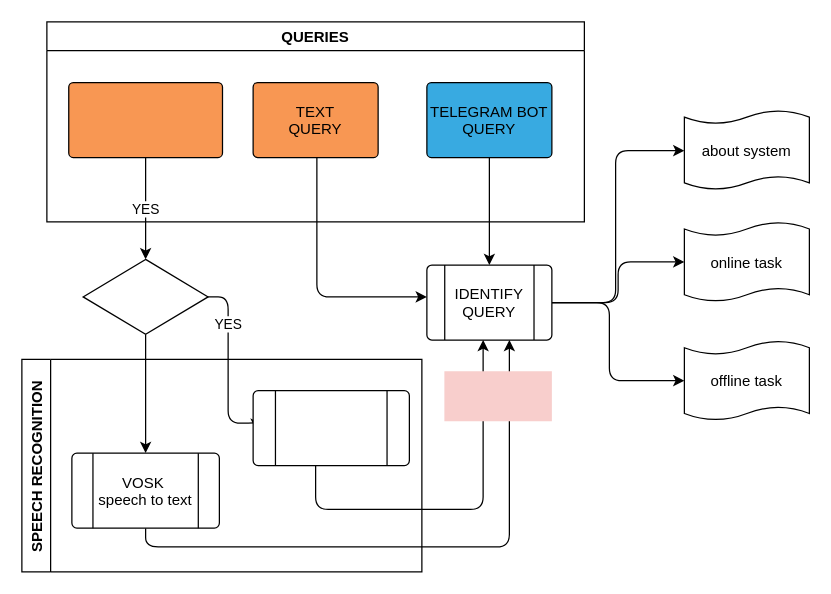
This 831x594 diagram has some shape labels left out. The shapes that lost their labels are listed below. From the top down, each one's centre as x and y in pixels, then its label:
At point 145,119: "SPEECH QUERY / VOICE COMMAND".
At point 145,296: "is Online".
At point 497,396: "Form speech to Text".
At point 330,427: "gSTT google speech to text".
